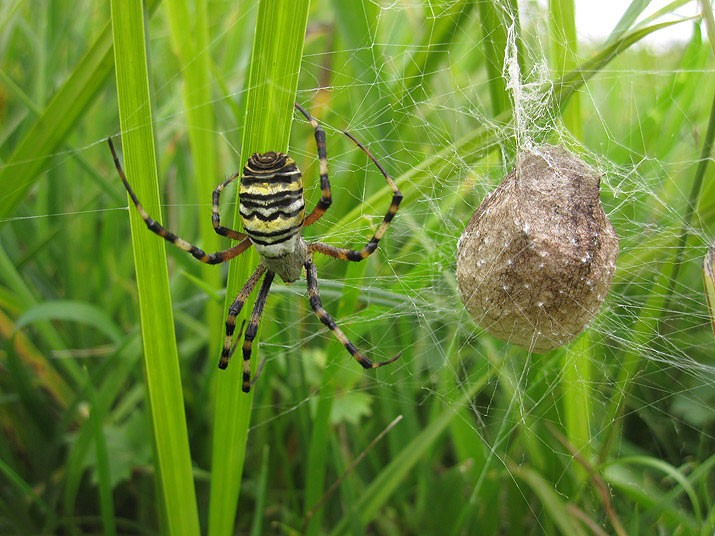spider: (96, 70, 443, 412)
